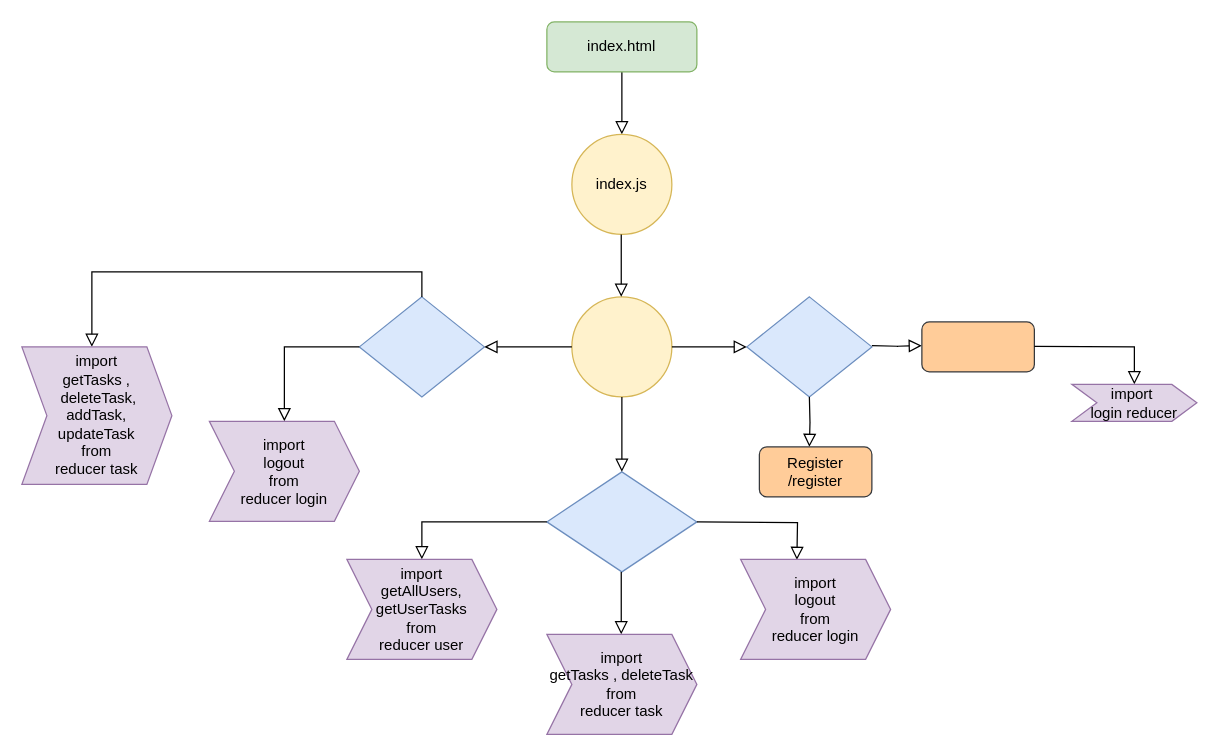
The diagram is 1219 pixels wide and 756 high, and some of its shapes have lost their labels. Each missing label, with the centre of its shape:
Account /account: (809,346)
AdminTask: (621,521)
App component: (621,346)
Signin /signin: (977,346)
UserTask: (421,346)
